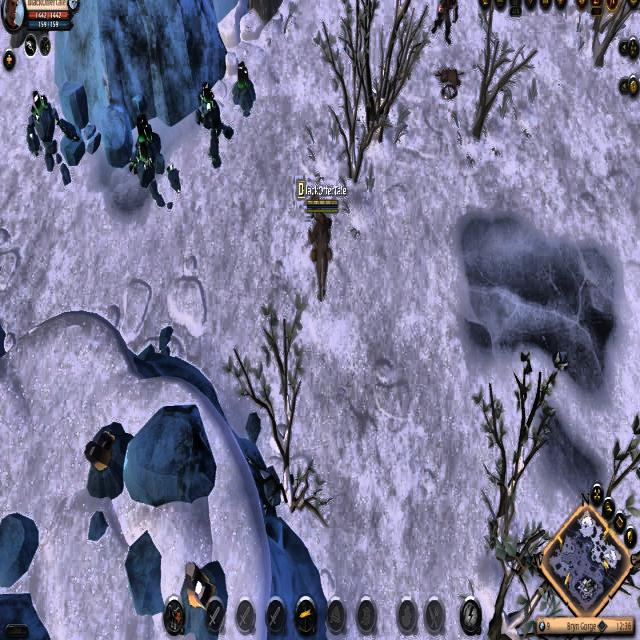copperore: (82, 418, 132, 502), (181, 556, 229, 636)
tinore: (229, 58, 259, 116), (132, 111, 162, 148)
